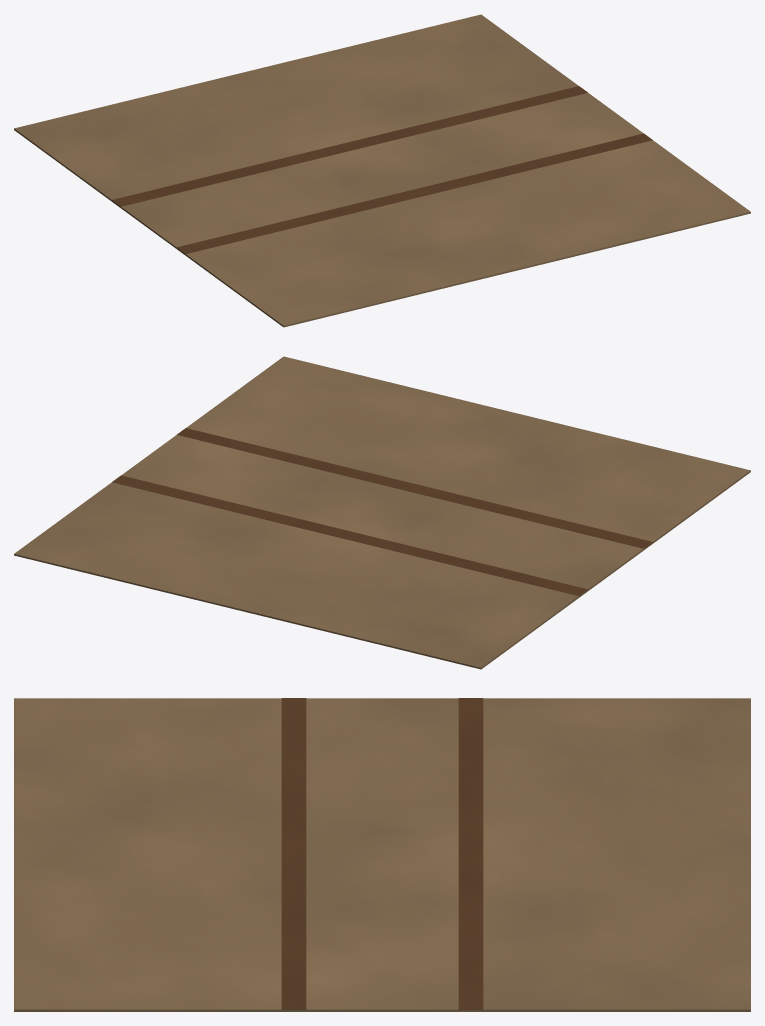
Rendered from pv_dvur_hlina.glb.
The picture shows the model from 3 angles, top to bottom: view 1: azimuth 30°, elevation 25°; view 2: azimuth 150°, elevation 25°; view 3: azimuth 270°, elevation 25°; orthographic projection. The views are drawn at different scales.
Visible parts, largest first — view 1: dum; view 2: dum; view 3: dum.
Part boxes in pixels (left/top/right/bottom): dum: left=14, top=14, right=750, bottom=327; dum: left=14, top=356, right=750, bottom=669; dum: left=14, top=698, right=750, bottom=1011.
Bounding box in the file's own units: 14.8 × 0.0549 × 14.8.
1 material, 1 textured.
